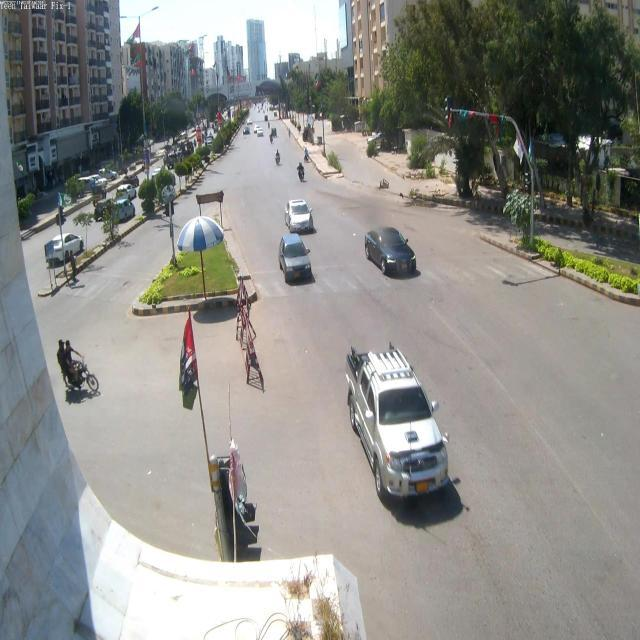car: (342, 345, 457, 508), (364, 225, 418, 279), (277, 233, 314, 285), (44, 232, 84, 270), (286, 196, 315, 231), (108, 200, 140, 225), (110, 180, 140, 206)
motorbike: (53, 340, 105, 400), (296, 160, 306, 183), (275, 148, 281, 169), (303, 146, 310, 163)
